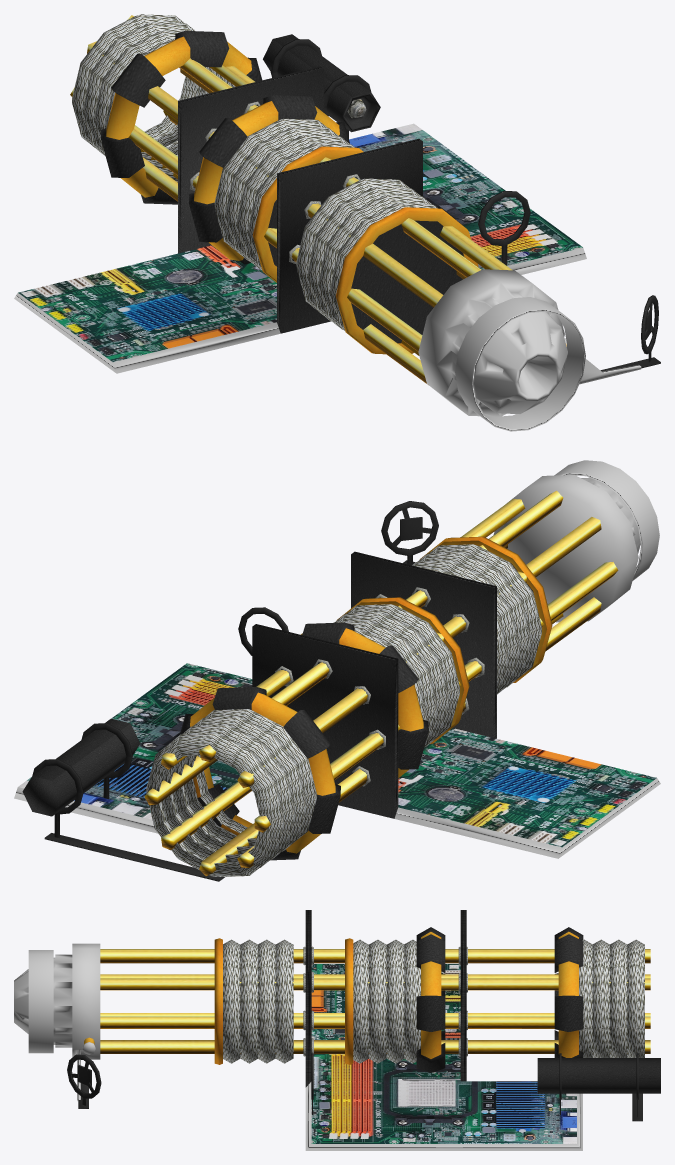
Rendered from shrinkRay.fbx.
3 views of the same model, one above another, from view 1: azimuth 30°, elevation 25°; view 2: azimuth 150°, elevation 25°; view 3: azimuth 270°, elevation 25° (orthographic). The views are drawn at different scales.
Parts seen in each view (by area): view 1: pCube3, pTorus1, pCylinder10, pCylinder1, pCylinder9, pTorus51, pTorus13, pCylinder16, pPipe2, pCylinder18; view 2: pCube3, pTorus1, pCylinder1, pCylinder10, pTorus51, pPipe2, pCylinder16, pTorus13, pCylinder9, pCylinder18, pTorus19; view 3: pCube3, pTorus1, pCylinder1, pCylinder10, pCylinder16, pTorus13, pTorus51, pPipe2, pCylinder9, pCylinder18, pTorus19.
Boxes of the visible parts, bbox=[...] form: pCube3: bbox=[14, 66, 586, 373]; pTorus1: bbox=[72, 14, 438, 330]; pCylinder10: bbox=[418, 269, 641, 431]; pCylinder1: bbox=[70, 15, 512, 383]; pCylinder9: bbox=[336, 207, 478, 354]; pTorus51: bbox=[101, 30, 262, 204]; pTorus13: bbox=[189, 95, 349, 264]; pCylinder16: bbox=[263, 34, 380, 132]; pPipe2: bbox=[270, 39, 660, 371]; pCylinder18: bbox=[252, 146, 363, 282]; pCube3: bbox=[14, 551, 660, 858]; pTorus1: bbox=[146, 544, 541, 876]; pCylinder1: bbox=[144, 490, 618, 876]; pCylinder10: bbox=[493, 460, 659, 622]; pTorus51: bbox=[180, 687, 340, 860]; pPipe2: bbox=[32, 501, 438, 881]; pCylinder16: bbox=[22, 718, 140, 816]; pTorus13: bbox=[301, 622, 428, 777]; pCylinder9: bbox=[419, 536, 552, 682]; pCylinder18: bbox=[336, 597, 469, 743]; pTorus19: bbox=[275, 587, 484, 786]; pCube3: bbox=[305, 910, 582, 1150]; pTorus1: bbox=[223, 939, 644, 1063]; pCylinder1: bbox=[100, 949, 650, 1053]; pCylinder10: bbox=[14, 943, 100, 1101]; pCylinder16: bbox=[537, 1058, 660, 1093]; pTorus13: bbox=[416, 927, 445, 1072]; pTorus51: bbox=[554, 927, 583, 1057]; pPipe2: bbox=[67, 1053, 642, 1121]; pCylinder9: bbox=[214, 938, 222, 1064]; pCylinder18: bbox=[345, 938, 353, 1064]; pTorus19: bbox=[303, 946, 467, 1056].
Size of the model in its own units: 18.31 by 6.45 by 27.82.
